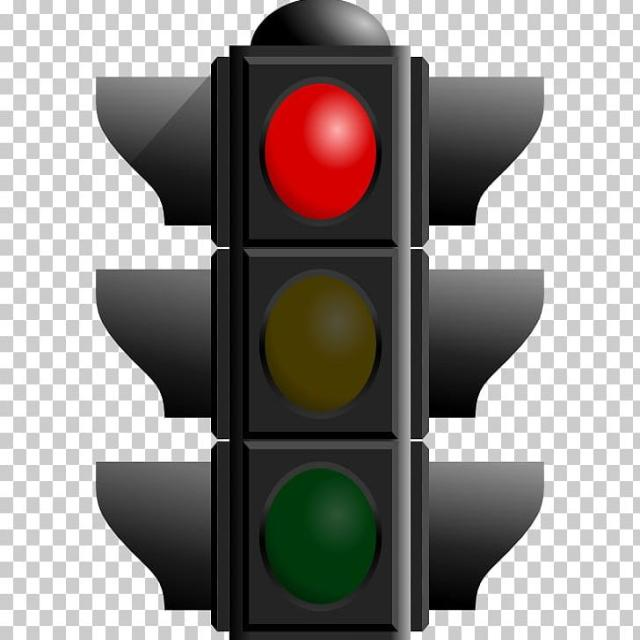red: (245, 57, 400, 239)
